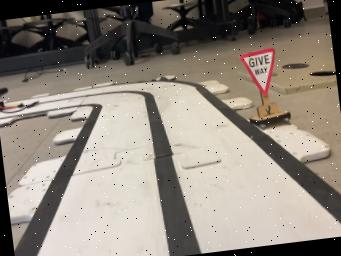give_way: (239, 47, 290, 129), (239, 47, 290, 129), (239, 47, 290, 129), (239, 47, 290, 129), (239, 47, 290, 129), (239, 47, 290, 129)
street: (14, 75, 341, 256), (14, 75, 341, 256), (14, 75, 341, 256), (14, 75, 341, 256), (14, 75, 341, 256), (14, 75, 341, 256)
